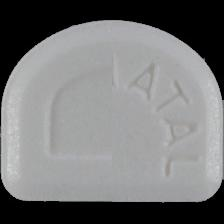43063-601: (0, 0, 224, 224)
